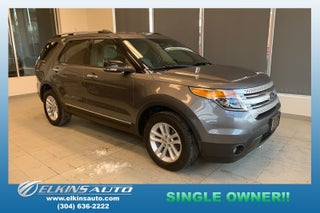Ford Explorer: (34, 29, 284, 172)
